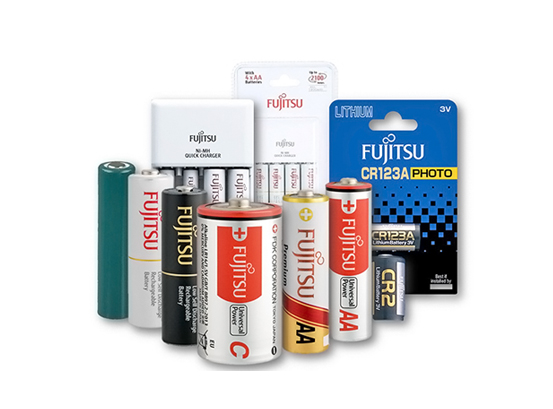Battery: (196, 195, 283, 366), (160, 183, 209, 347), (282, 189, 330, 355), (326, 177, 373, 345), (127, 168, 173, 328), (95, 159, 136, 321), (373, 252, 405, 321)
